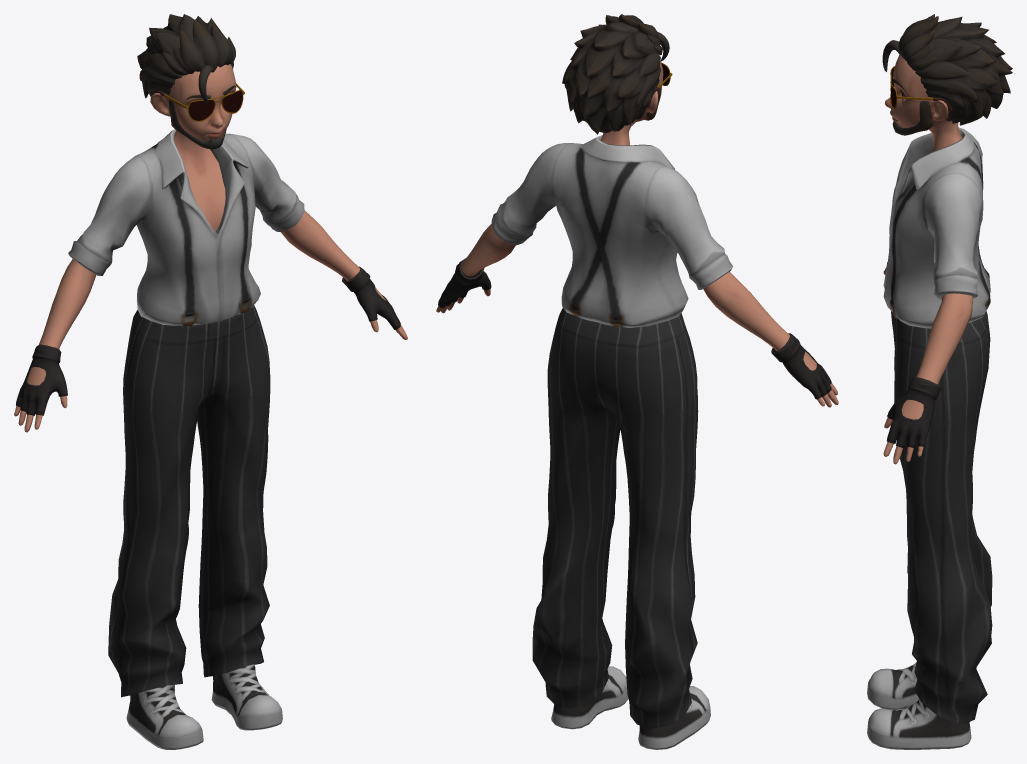
File: StaffVolvi_Mesh.obj
3 views of the same model, side by side, from view 1: azimuth 30°, elevation 25°; view 2: azimuth 150°, elevation 25°; view 3: azimuth 270°, elevation 25° (orthographic). The views are drawn at different scales.
Visible parts, largest first — view 1: StaffVolvi_Mesh_0; view 2: StaffVolvi_Mesh_0; view 3: StaffVolvi_Mesh_0.
Part boxes in pixels (bbox=[...]): StaffVolvi_Mesh_0: bbox=[14, 14, 407, 749]; StaffVolvi_Mesh_0: bbox=[436, 14, 838, 749]; StaffVolvi_Mesh_0: bbox=[867, 14, 1012, 749].
Size of the model in its own units: 1.06 by 1.84 by 0.3456.
Materials: 1 (1 with a texture image).
